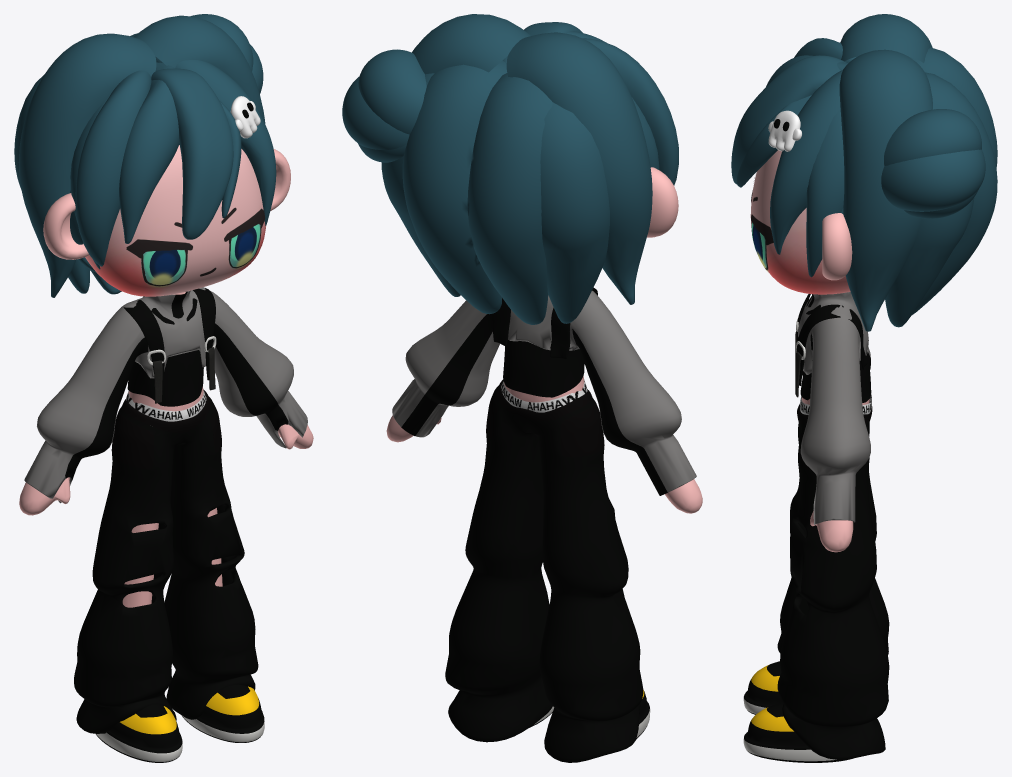
The model's file is wahaha.glb.
The picture shows the model from 3 angles, left to right: view 1: azimuth 30°, elevation 25°; view 2: azimuth 150°, elevation 25°; view 3: azimuth 270°, elevation 25°; orthographic projection. The views are drawn at different scales.
Visible parts, largest first — view 1: 褲子.002, 衣服.001, Nurbs路徑.017, 頭.005, Nurbs路徑.015, Nurbs路徑.018, 鞋子.001, Nurbs路徑.016, face.002, Nurbs路徑.019, 身體.001, 內衣 (+9 smaller); view 2: 褲子.002, Nurbs路徑.022, 衣服.001, Nurbs路徑.017, Nurbs路徑.021, Nurbs路徑.025, 內衣, Nurbs路徑.018, 身體.001, 耳朵.001, 衣服綁帶, 內褲; view 3: 褲子.002, Nurbs路徑.017, 衣服.001, Nurbs路徑.025, Nurbs路徑.022, Nurbs路徑.019, Nurbs路徑.021, 頭.005, 鞋子.001, Nurbs路徑.015, Nurbs路徑.020, 耳朵.001 (+7 smaller).
Boxes of the visible parts, x1,y1,x2,y2 form: 褲子.002: (74, 389, 258, 733); 衣服.001: (24, 287, 307, 503); Nurbs路徑.017: (18, 15, 265, 297); 頭.005: (85, 145, 265, 296); Nurbs路徑.015: (151, 68, 233, 239); Nurbs路徑.018: (75, 70, 151, 266); 鞋子.001: (96, 684, 264, 762); Nurbs路徑.016: (119, 62, 179, 243); face.002: (126, 207, 264, 287); Nurbs路徑.019: (155, 56, 276, 225); 身體.001: (19, 292, 313, 607); 內衣: (127, 291, 203, 406); 褲子.002: (445, 379, 643, 762); Nurbs路徑.022: (402, 60, 552, 324); 衣服.001: (392, 290, 696, 495); Nurbs路徑.017: (412, 14, 652, 304); Nurbs路徑.021: (381, 73, 609, 323); Nurbs路徑.025: (342, 49, 426, 162); 內衣: (503, 340, 584, 397); Nurbs路徑.018: (582, 38, 678, 185); 身體.001: (386, 376, 702, 513); 耳朵.001: (647, 167, 678, 237); 衣服綁帶: (492, 287, 597, 359); 內褲: (501, 379, 587, 412); 褲子.002: (777, 400, 889, 759); Nurbs路徑.017: (839, 14, 932, 331); 衣服.001: (798, 292, 870, 524); Nurbs路徑.025: (881, 109, 985, 218); Nurbs路徑.022: (909, 47, 997, 314); Nurbs路徑.019: (770, 70, 842, 254); Nurbs路徑.021: (885, 104, 974, 327); 頭.005: (750, 150, 850, 294); 鞋子.001: (743, 661, 853, 762); Nurbs路徑.015: (731, 55, 846, 184); Nurbs路徑.020: (806, 109, 844, 277); 耳朵.001: (822, 213, 852, 280).
Bounding box in the file's own units: 5.13 × 11.41 × 3.99.
Materials: 8 (8 with a texture image).
